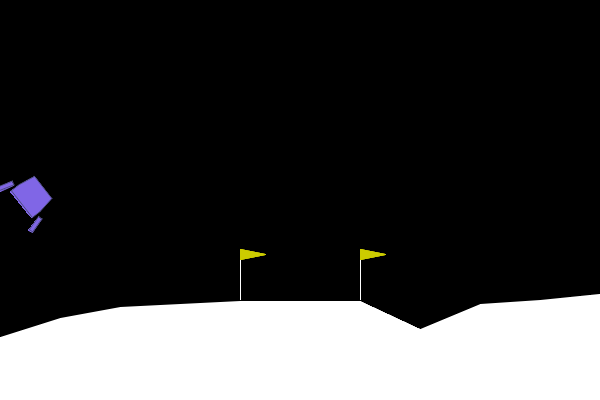lander: (0, 163, 63, 235)
